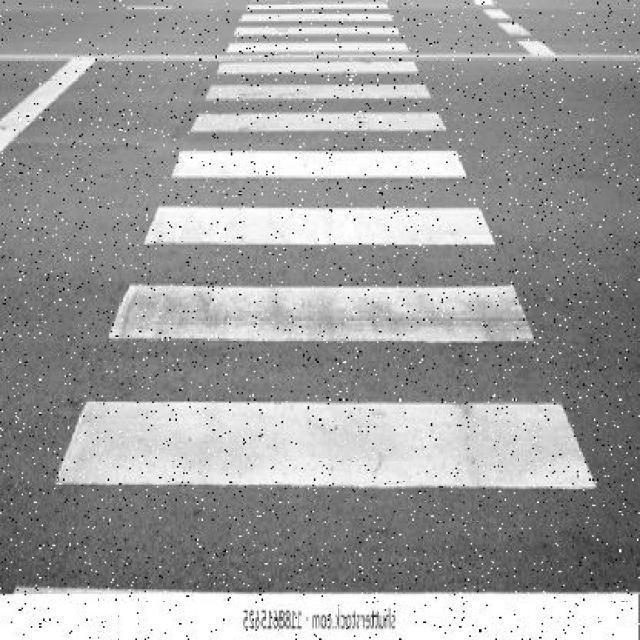Pedestrian crosswalk: (8, 0, 597, 597)
